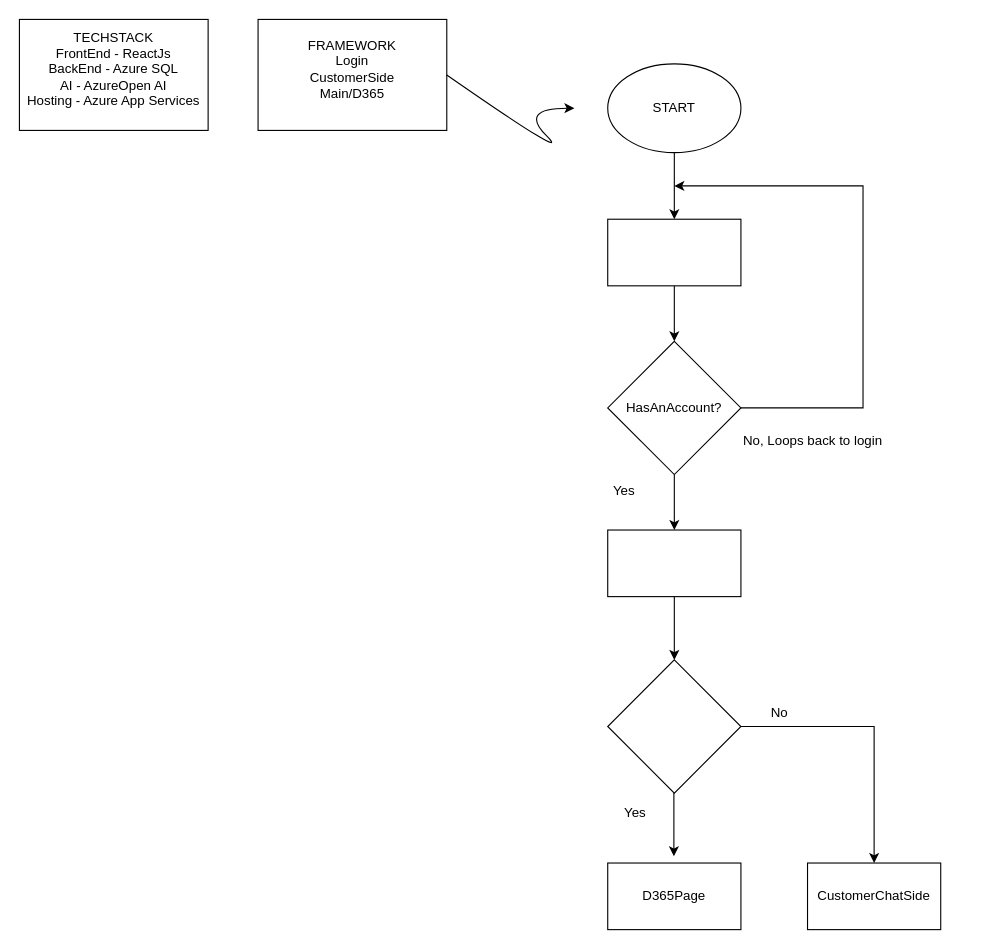
This 988x949 diagram has some shape labels left out. Here are the shapes that lost their labels. From the top down, the box of each, then its label:
(607, 218, 741, 286): LoginPage
(607, 529, 741, 597): ChecksDataBase
(607, 659, 741, 793): Engineer?
